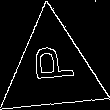P_W: (27, 49, 77, 91)
